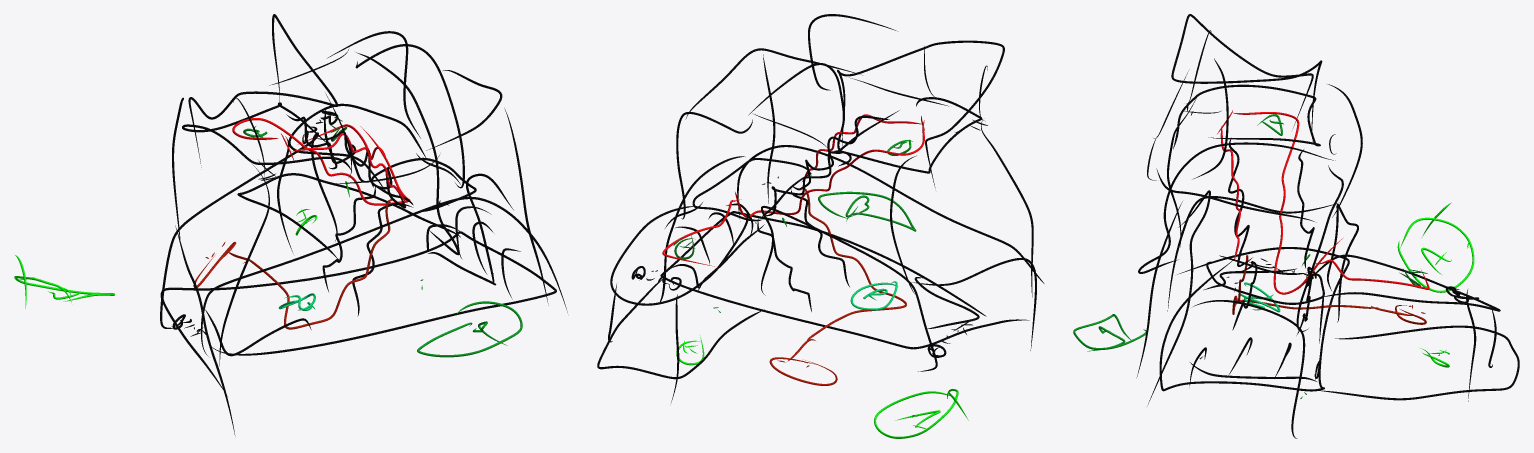
3 renders of one model, left to right at view 1: azimuth 30°, elevation 25°; view 2: azimuth 150°, elevation 25°; view 3: azimuth 270°, elevation 25°, orthographic. The views are drawn at different scales.
Parts seen in each view (by area): view 1: s.0028, s.0112, s.0124, s.0110, s.0075, s.0029, s.0109, s.0058, s.0128, s.0092, s.0077, s.0131 (+1 smaller); view 2: s.0028, s.0124, s.0112, s.0110, s.0077, s.0075, s.0029, s.0058, s.0109, s.0092, s.0030, s.0060 (+7 smaller); view 3: s.0028, s.0124, s.0029, s.0077, s.0075, s.0109, s.0128, s.0112, s.0113, s.0030, s.0111, s.0110 (+5 smaller).
Boxes of the visible parts, x1=… form: s.0028: x1=160, y1=231, x2=556, y2=396; s.0112: x1=200, y1=196, x2=567, y2=356; s.0124: x1=188, y1=14, x2=338, y2=167; s.0110: x1=160, y1=132, x2=337, y2=328; s.0075: x1=182, y1=102, x2=351, y2=170; s.0029: x1=237, y1=173, x2=460, y2=258; s.0109: x1=232, y1=118, x2=410, y2=205; s.0058: x1=246, y1=199, x2=392, y2=329; s.0128: x1=356, y1=52, x2=459, y2=255; s.0092: x1=417, y1=301, x2=522, y2=357; s.0077: x1=288, y1=103, x2=425, y2=190; s.0131: x1=355, y1=44, x2=464, y2=188; s.0028: x1=660, y1=211, x2=1029, y2=349; s.0124: x1=837, y1=40, x2=1004, y2=187; s.0112: x1=737, y1=145, x2=1044, y2=283; s.0110: x1=761, y1=205, x2=937, y2=371; s.0077: x1=610, y1=206, x2=752, y2=305; s.0075: x1=833, y1=97, x2=982, y2=173; s.0029: x1=597, y1=279, x2=764, y2=379; s.0058: x1=799, y1=188, x2=906, y2=340; s.0109: x1=735, y1=120, x2=924, y2=217; s.0092: x1=818, y1=191, x2=916, y2=231; s.0030: x1=874, y1=389, x2=958, y2=438; s.0060: x1=692, y1=158, x2=811, y2=221; s.0028: x1=1159, y1=247, x2=1349, y2=391; s.0124: x1=1171, y1=14, x2=1322, y2=141; s.0029: x1=1319, y1=325, x2=1519, y2=400; s.0077: x1=1298, y1=254, x2=1500, y2=311; s.0075: x1=1173, y1=84, x2=1320, y2=149; s.0109: x1=1232, y1=112, x2=1342, y2=294; s.0128: x1=1138, y1=142, x2=1335, y2=273; s.0112: x1=1147, y1=190, x2=1210, y2=405; s.0113: x1=1193, y1=300, x2=1305, y2=438; s.0030: x1=1397, y1=217, x2=1474, y2=292; s.0111: x1=1167, y1=196, x2=1339, y2=311; s.0110: x1=1327, y1=203, x2=1358, y2=322.
Size of the model in its own units: 49.52 by 51.96 by 40.43.
